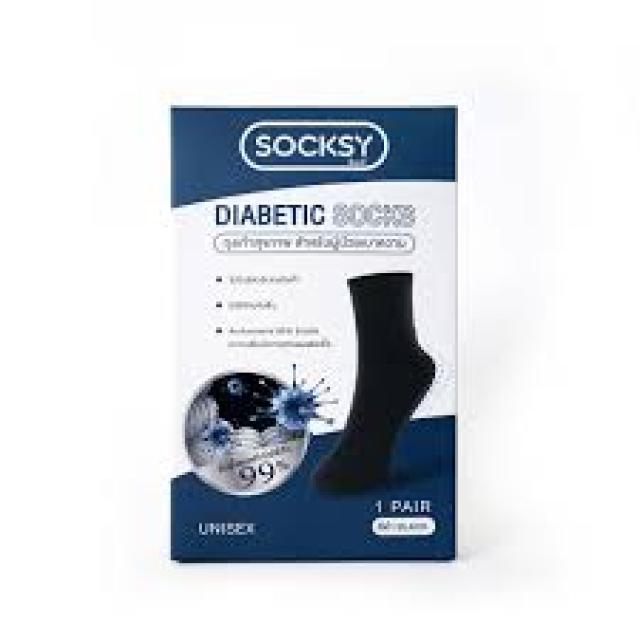sock: (310, 270, 435, 492)
